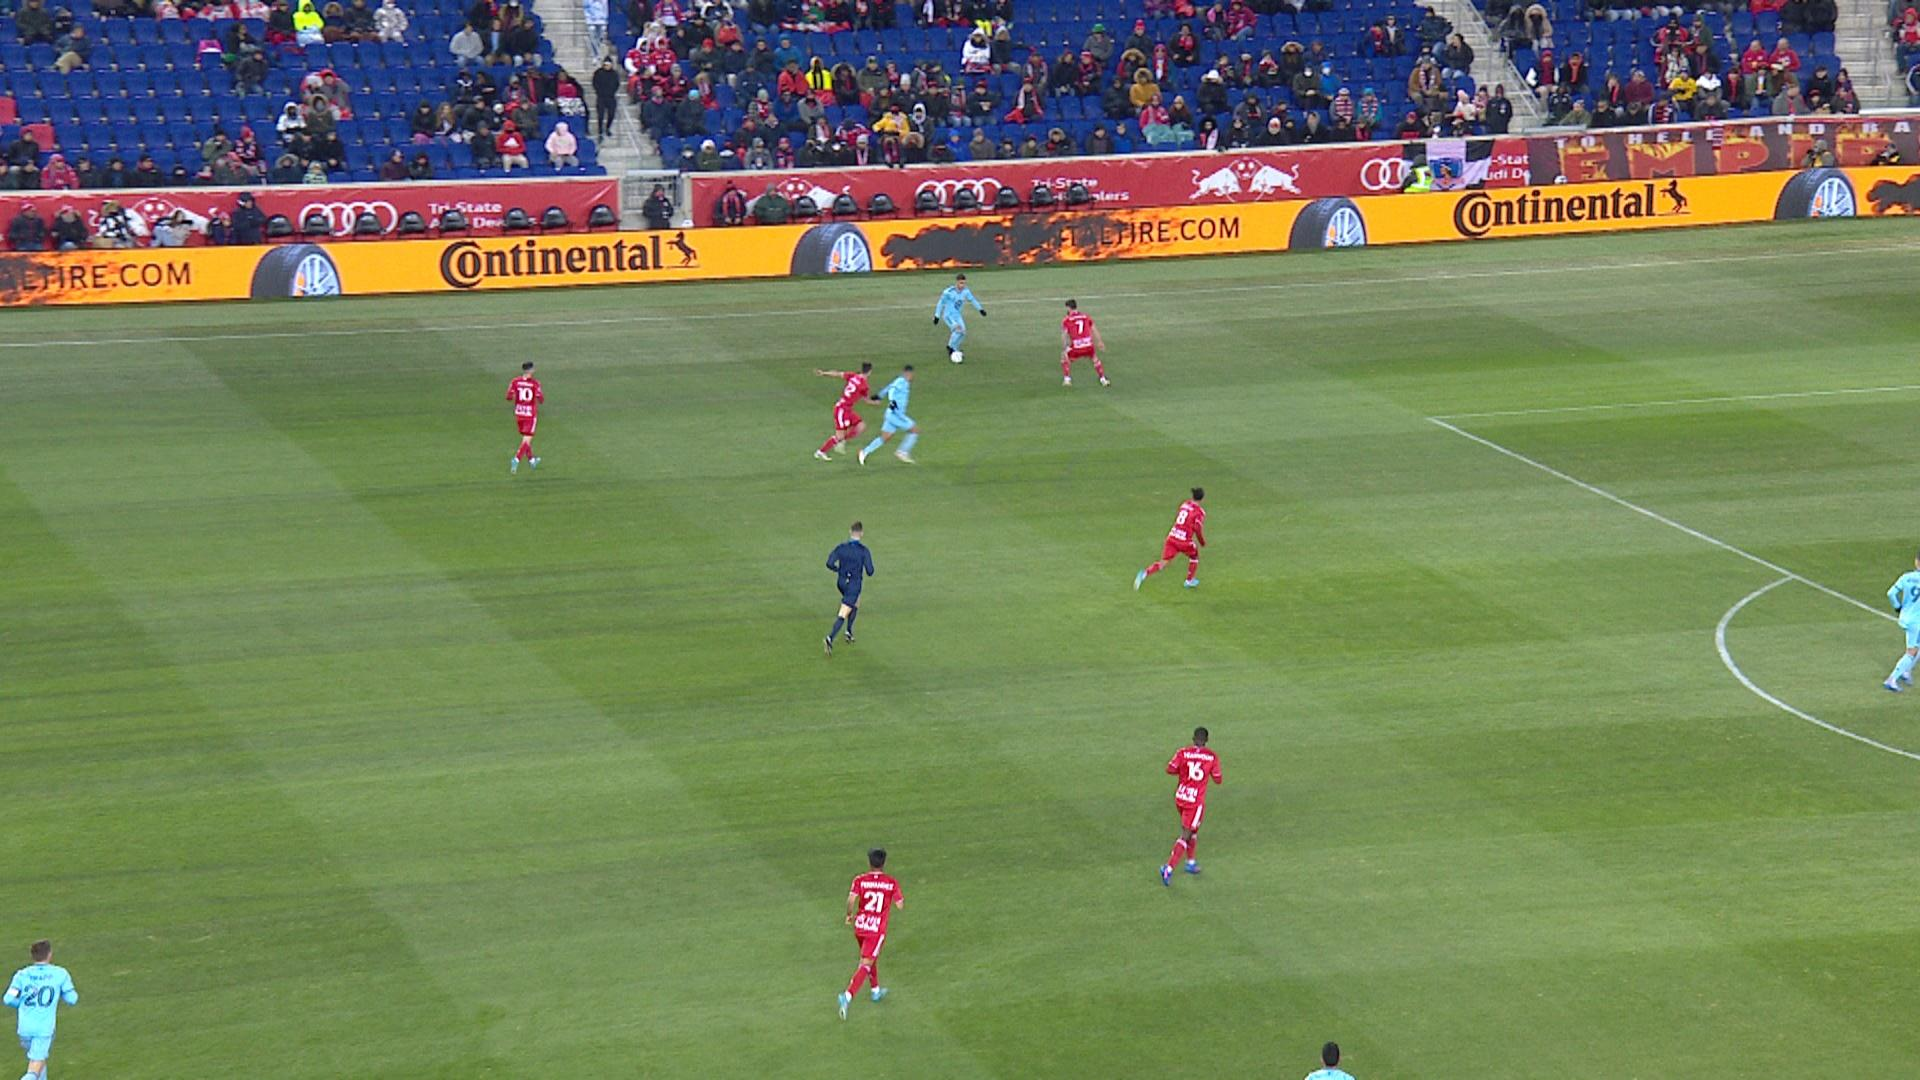football: (951, 352, 964, 364)
